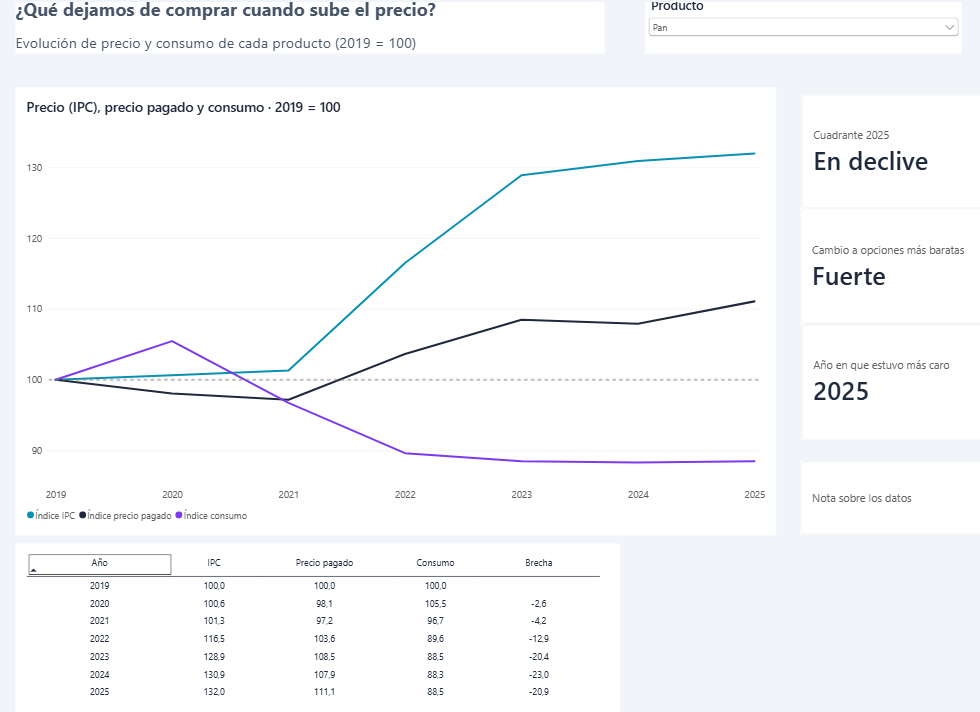

The page's visual inventory and layout, read from the dashboard file:
{"tool":"powerbi","page":{"name":"Detalle","canvas":[1920,1080],"ordinal":2},"visuals":[{"type":"textbox","box":[33.1,0,866.9,84.7],"z":0},{"type":"slicer","title":"Producto","fields":{"Values":["dim_producto.producto"]},"box":[960.7,0,465.6,84.7],"z":1000},{"type":"lineChart","title":"Precio (IPC), precio pagado y consumo · 2019 = 100","fields":{"Category":["dim_anio.anio"],"Y":["_Medidas.Índice IPC","_Medidas.Índice precio pagado","_Medidas.Índice consumo"]},"box":[34,134,1120,660],"z":2000},{"type":"cardVisual","fields":{"Data":["_Medidas.Cuadrante"]},"box":[1190.3,145.6,360.7,167.5],"z":3000},{"type":"cardVisual","fields":{"Data":["_Medidas.Trading down"]},"box":[1189.7,312,360,170],"z":4000},{"type":"cardVisual","fields":{"Data":["_Medidas.Año pico precio"]},"box":[1190.3,484.2,358.9,169.3],"z":5000},{"type":"cardVisual","fields":{"Data":["_Medidas.Nota ajuste"]},"box":[1188.4,685.2,360,108],"z":6000},{"type":"tableEx","fields":{"Values":["dim_anio.anio","_Medidas.Índice IPC","_Medidas.Índice precio pagado","_Medidas.Índice consumo","_Medidas.Brecha trading down"]},"box":[34,806,890,274],"z":7000}]}

Visuals, with their boxes on the page's 1920x1080 design canvas (x1, y1, x2, y2). These are canvas units, not pixel positions in the 980x712 screenshot, which may show the page scaled, cropped or inside an application window:
textbox: <box>33,0,900,85</box>
"Producto" slicer: <box>961,0,1426,85</box>
"Precio (IPC), precio pagado y consumo · 2019 = 100" lineChart: <box>34,134,1154,794</box>
cardVisual - _Medidas.Cuadrante: <box>1190,146,1551,313</box>
cardVisual - _Medidas.Trading down: <box>1190,312,1550,482</box>
cardVisual - _Medidas.Año pico precio: <box>1190,484,1549,654</box>
cardVisual - _Medidas.Nota ajuste: <box>1188,685,1548,793</box>
tableEx - dim_anio.anio x _Medidas.Índice IPC: <box>34,806,924,1080</box>
